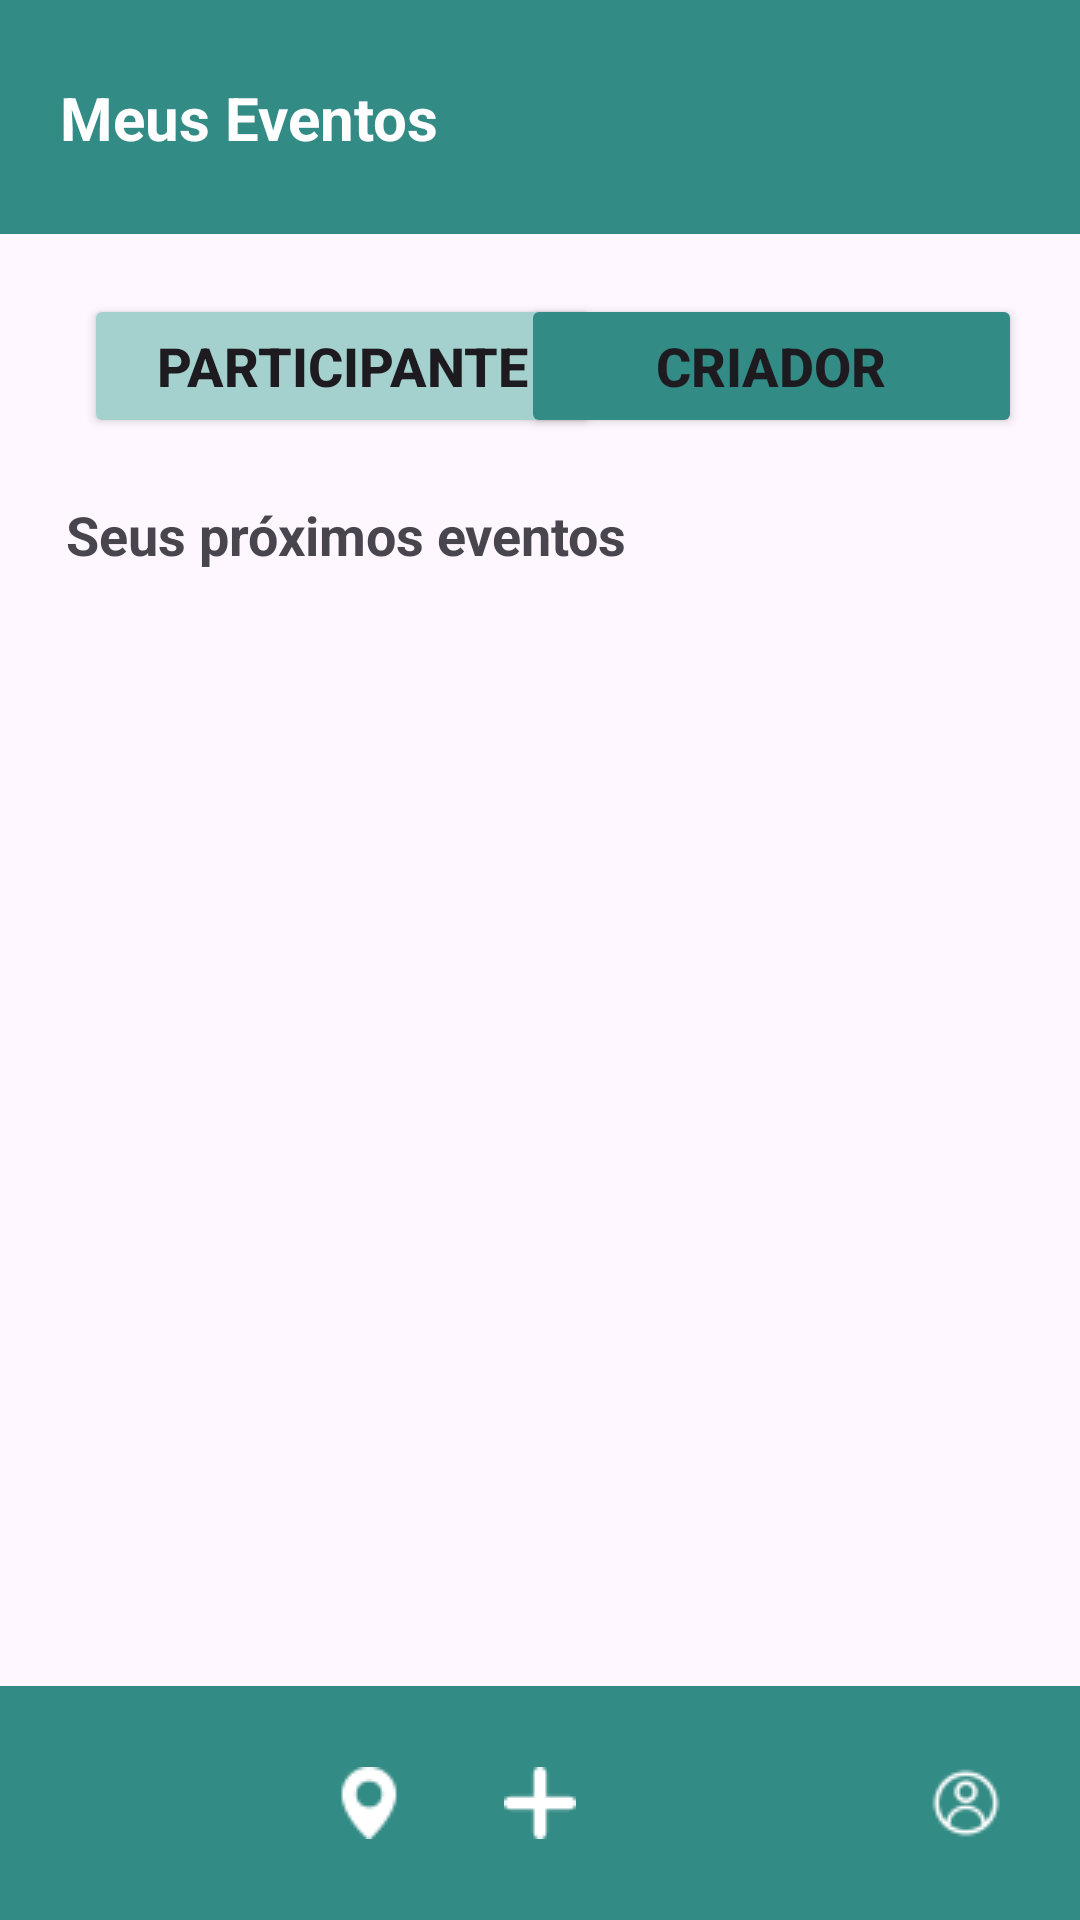

Icon click points for this 1080×1920 phone screenshot, format (x=x, y=y):
botao criar evento: (x=540, y=1803)
botao perfil: (x=966, y=1803)
btnlocalizacao: (x=369, y=1803)
